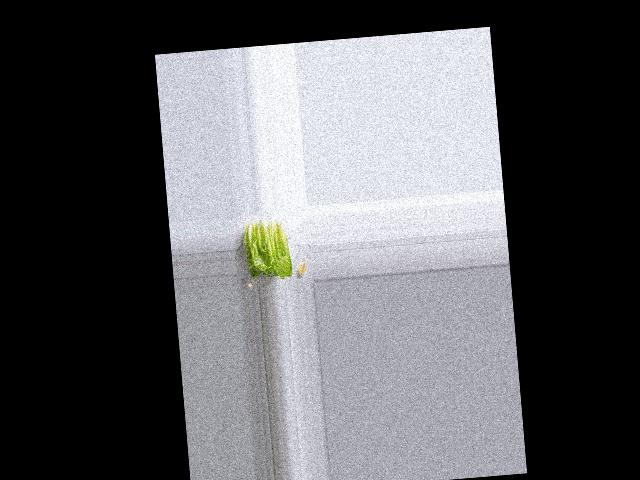lettuce: (240, 217, 295, 283)
